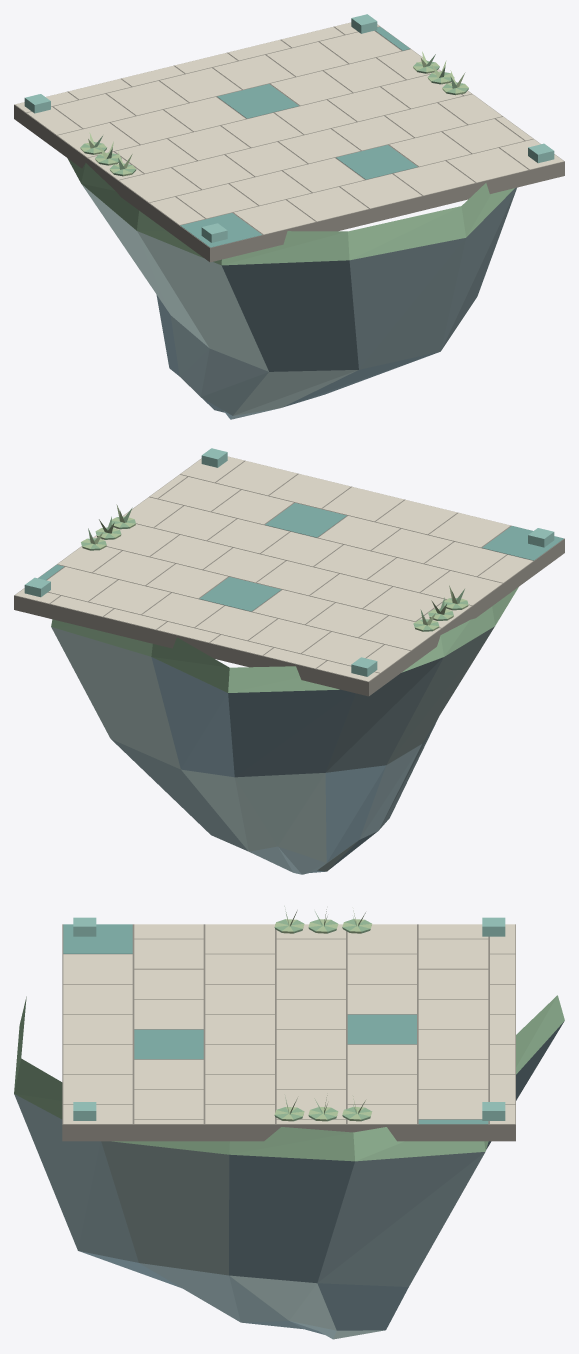
File: FloatingIsland08.glb
3 renders of one model, top to bottom at view 1: azimuth 30°, elevation 25°; view 2: azimuth 150°, elevation 25°; view 3: azimuth 270°, elevation 25°, orthographic. The views are drawn at different scales.
Parts seen in each view (by area): view 1: FloatingIsland08; view 2: FloatingIsland08; view 3: FloatingIsland08.
Part boxes in pixels (x1,y1,x2,y2): FloatingIsland08: [14, 14, 564, 419]; FloatingIsland08: [14, 448, 564, 874]; FloatingIsland08: [14, 906, 564, 1339].
Bounding box in the file's own units: 7.38 × 5.76 × 8.14.
